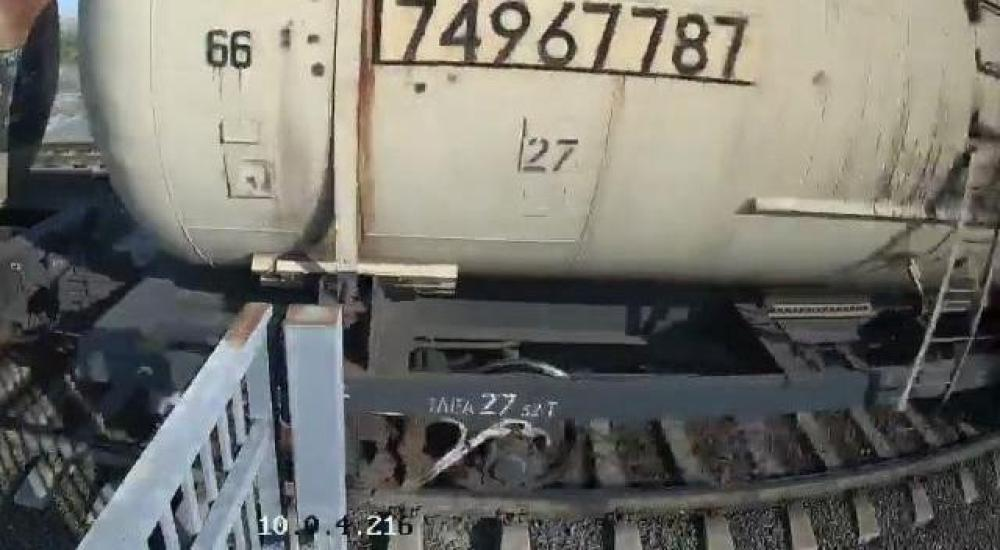Wagon-number: (386, 0, 754, 81)
